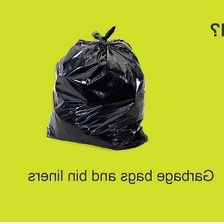plastic_bag: (40, 20, 155, 154)
